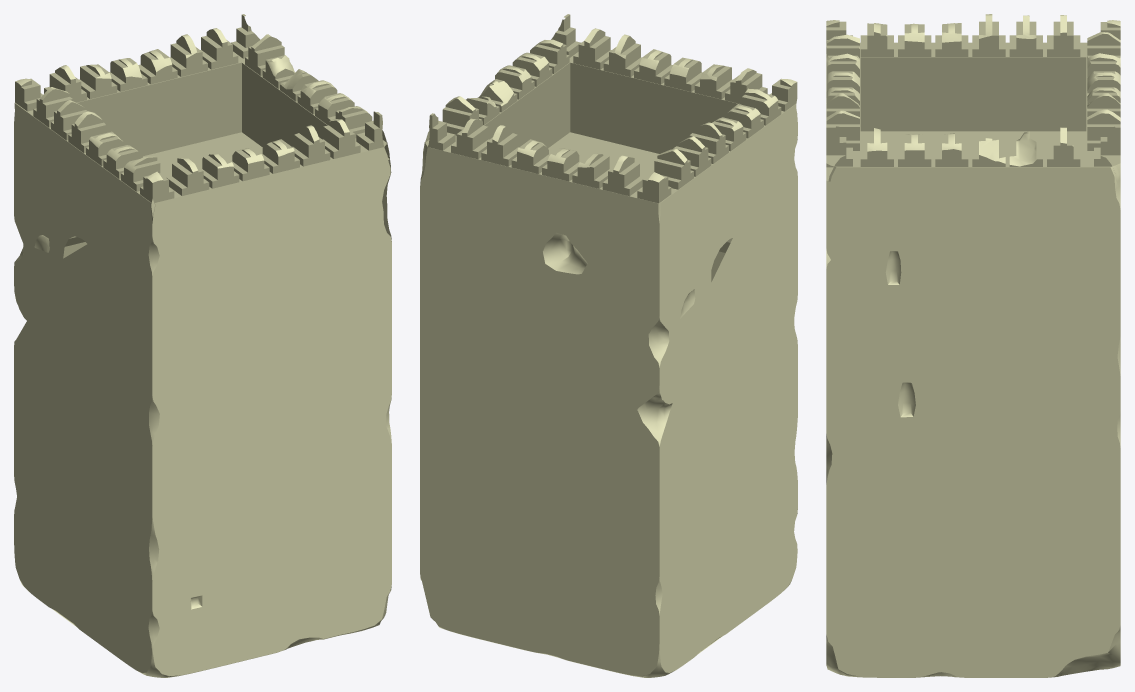
Rendered from TorreMuralla1.fbx.
3 renders of one model, left to right at view 1: azimuth 30°, elevation 25°; view 2: azimuth 150°, elevation 25°; view 3: azimuth 270°, elevation 25°, orthographic. The views are drawn at different scales.
Visible parts, largest first — view 1: Cube.035_dmg; view 2: Cube.035_dmg; view 3: Cube.035_dmg.
Boxes of the visible parts, x1=… form: Cube.035_dmg: x1=14, y1=14, x2=391, y2=677; Cube.035_dmg: x1=420, y1=14, x2=797, y2=677; Cube.035_dmg: x1=826, y1=14, x2=1120, y2=677.
Size of the model in its own units: 395 by 809 by 395.
